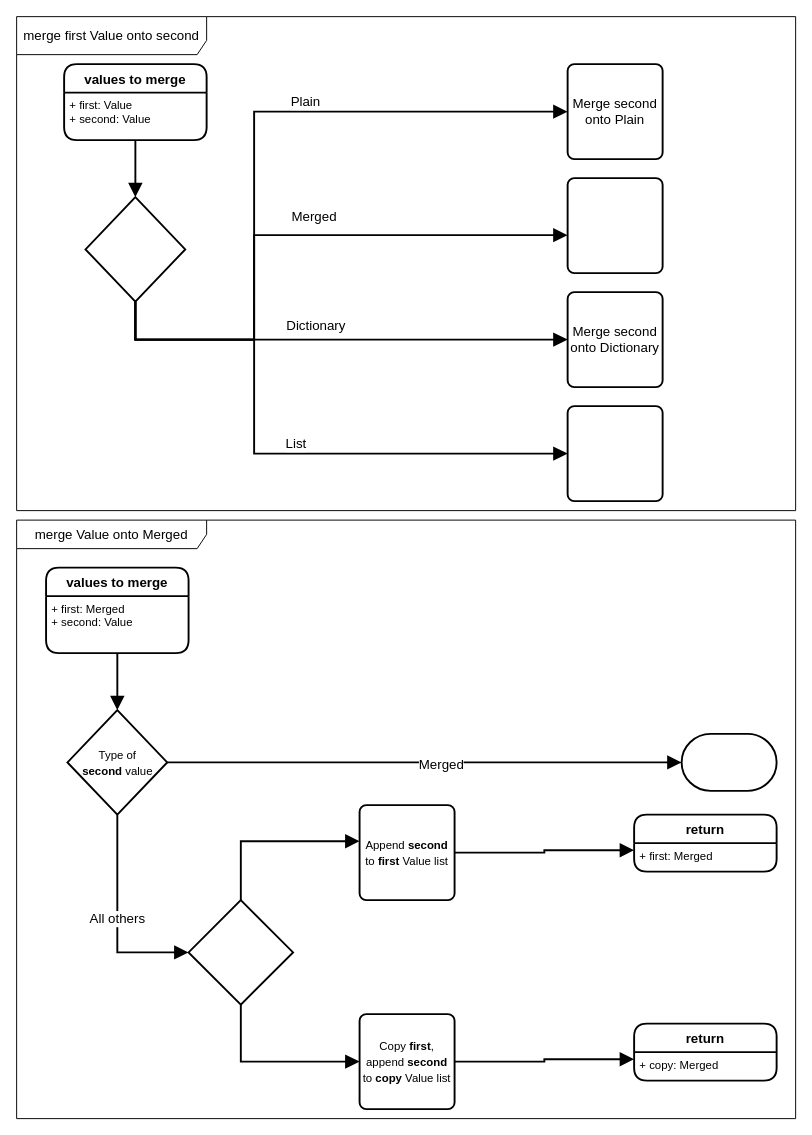
Image size: 812x1135. Some labels were removed from this diagram. Here are the shapes that lost their labels. From the top down, the centre of each, then its label:
At (614,225): "Merge second onto Merged".
At (135,249): "Type of first value".
At (614,453): "Merge second onto List".
At (728,761): "stop, raise error".
At (240,952): "first copy on change?".
